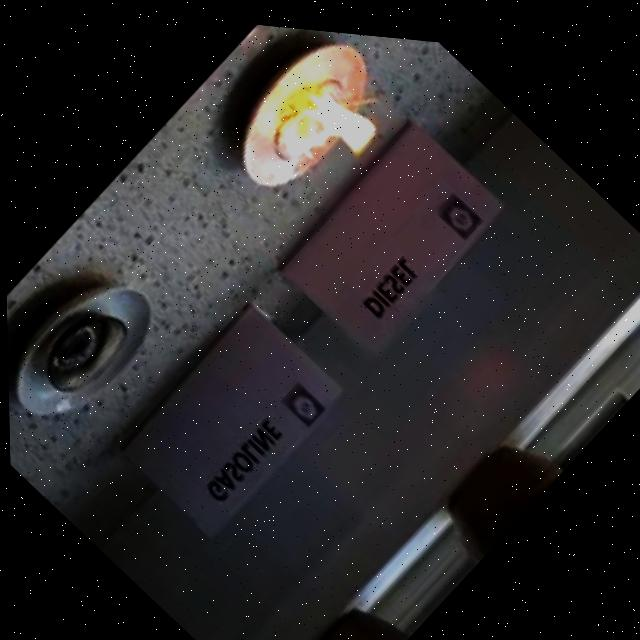Fire: (265, 62, 392, 195)
